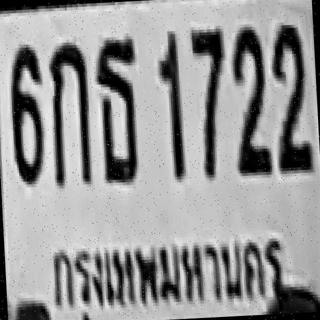A01: (47, 39, 92, 186)
A24: (92, 36, 142, 184)
N01: (155, 32, 185, 179)
N02: (269, 21, 312, 171), (229, 23, 270, 174)
N06: (7, 44, 46, 185)
N07: (190, 27, 229, 177)
P04: (43, 224, 287, 320)
